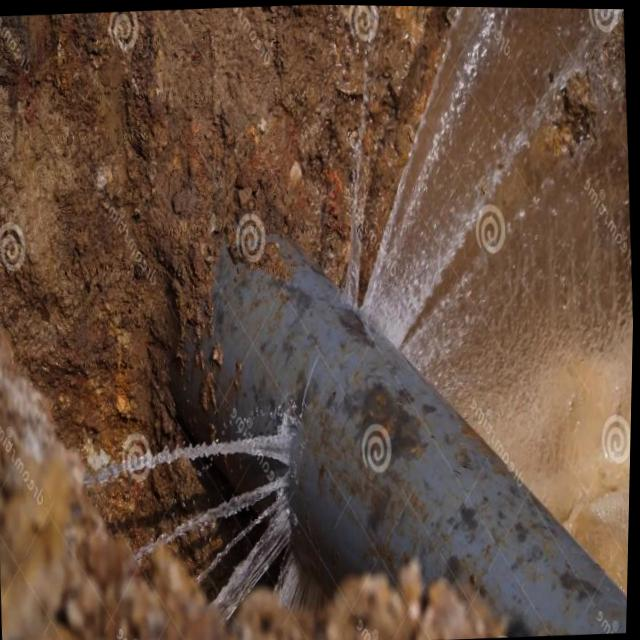leak: (329, 6, 633, 597), (58, 414, 312, 628)
